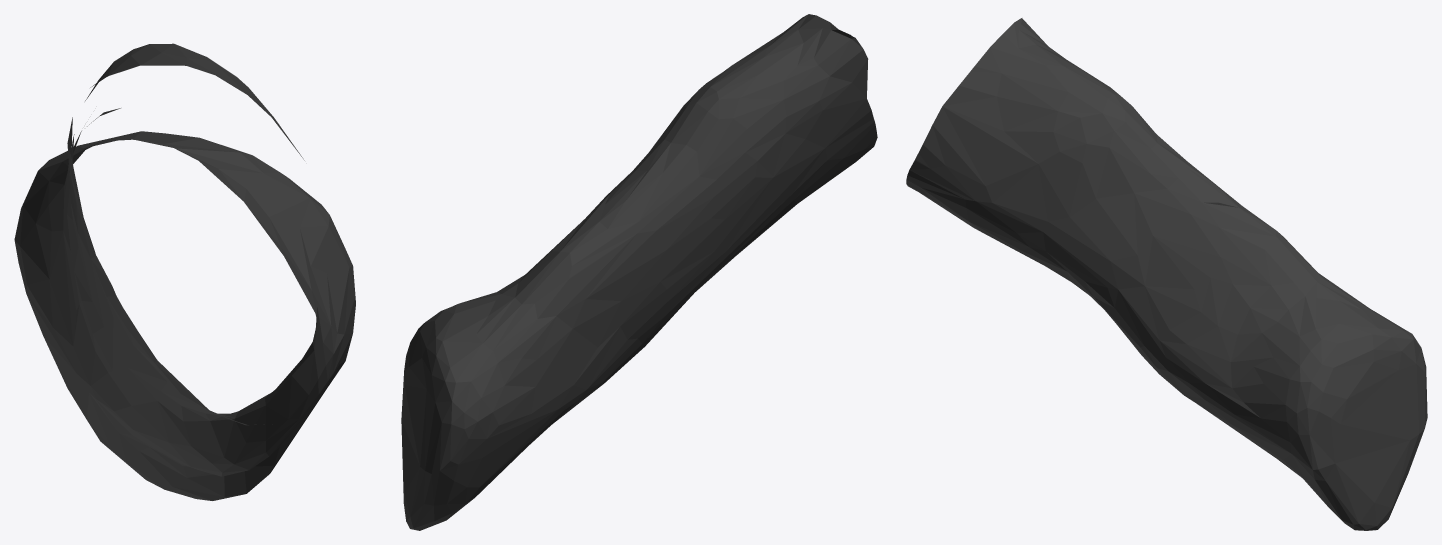
File: Ext_iliac_vv_L.glb
3 views of the same model, side by side, from view 1: azimuth 30°, elevation 25°; view 2: azimuth 150°, elevation 25°; view 3: azimuth 270°, elevation 25° (orthographic). The views are drawn at different scales.
Visible parts, largest first — view 1: Ext_iliac_vv_L; view 2: Ext_iliac_vv_L; view 3: Ext_iliac_vv_L.
Part boxes in pixels (x1,y1,x2,y2): Ext_iliac_vv_L: [14, 43, 355, 500]; Ext_iliac_vv_L: [401, 14, 877, 530]; Ext_iliac_vv_L: [906, 18, 1427, 530].
Size of the model in its own units: 0.1461 by 0.1938 by 0.2273.
Materials: 1 (1 with a texture image).
